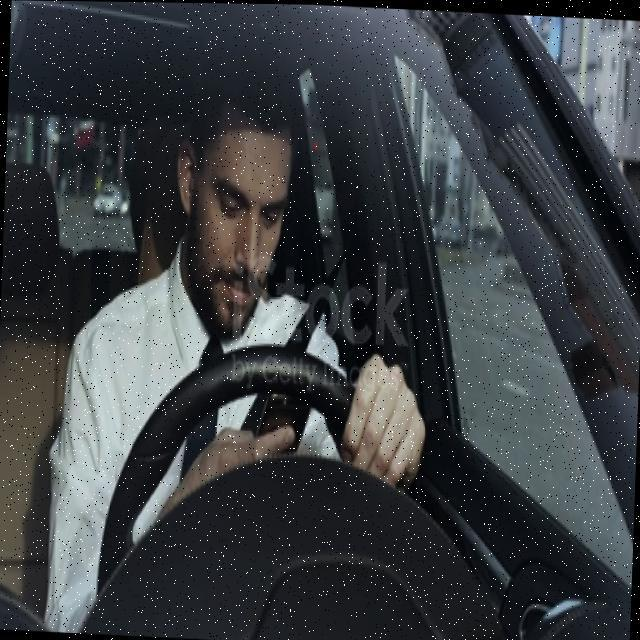PhoneCall: (254, 376, 316, 456)
